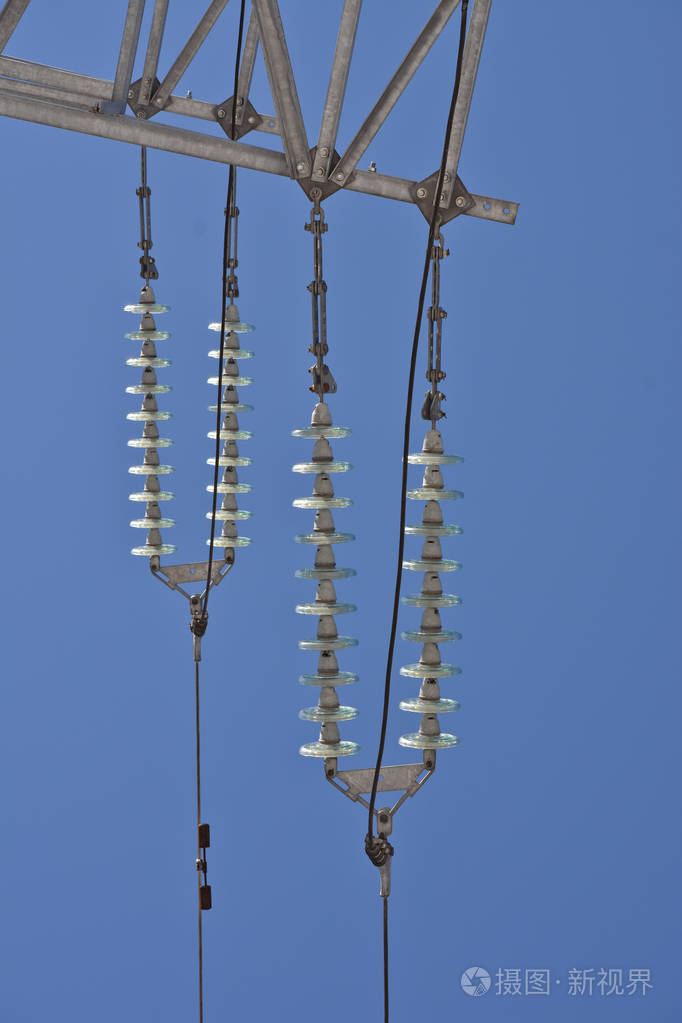insulator: (287, 423, 360, 762), (399, 450, 467, 756), (117, 299, 179, 563), (206, 313, 258, 555)
